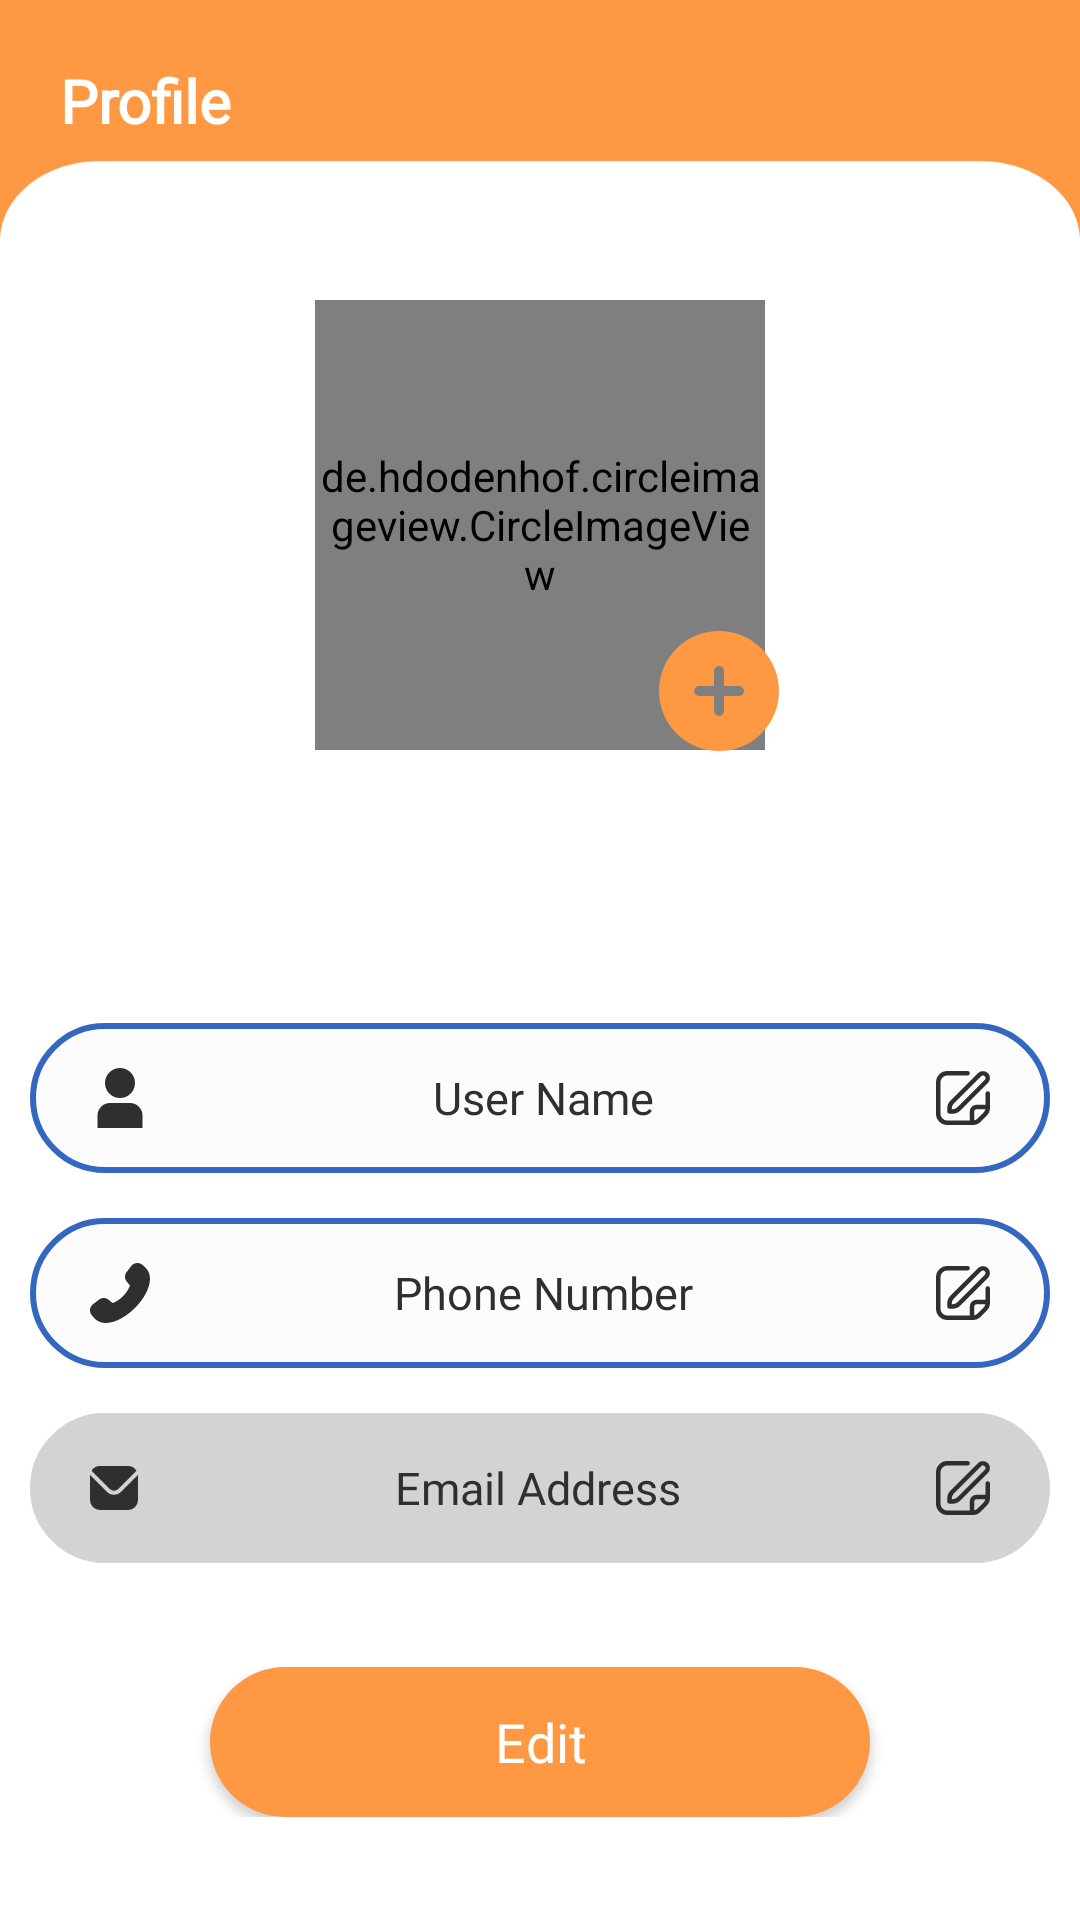

Screen size 1080x1920. Icon name, then its center in pixels as (x,y):
Edit Profile Picture: (719,691)
